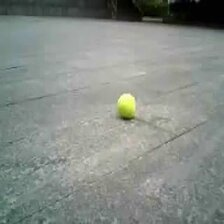tennis: (117, 94, 137, 117)
